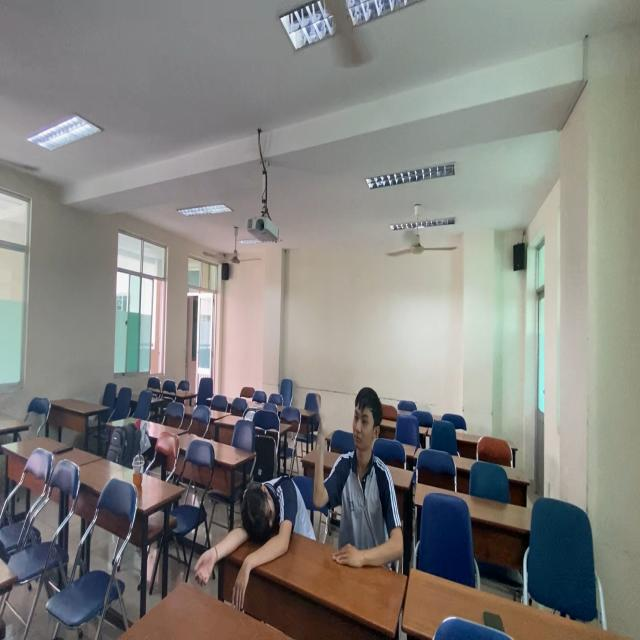raise_hand: (311, 393, 413, 581)
sleep: (216, 463, 314, 594)
